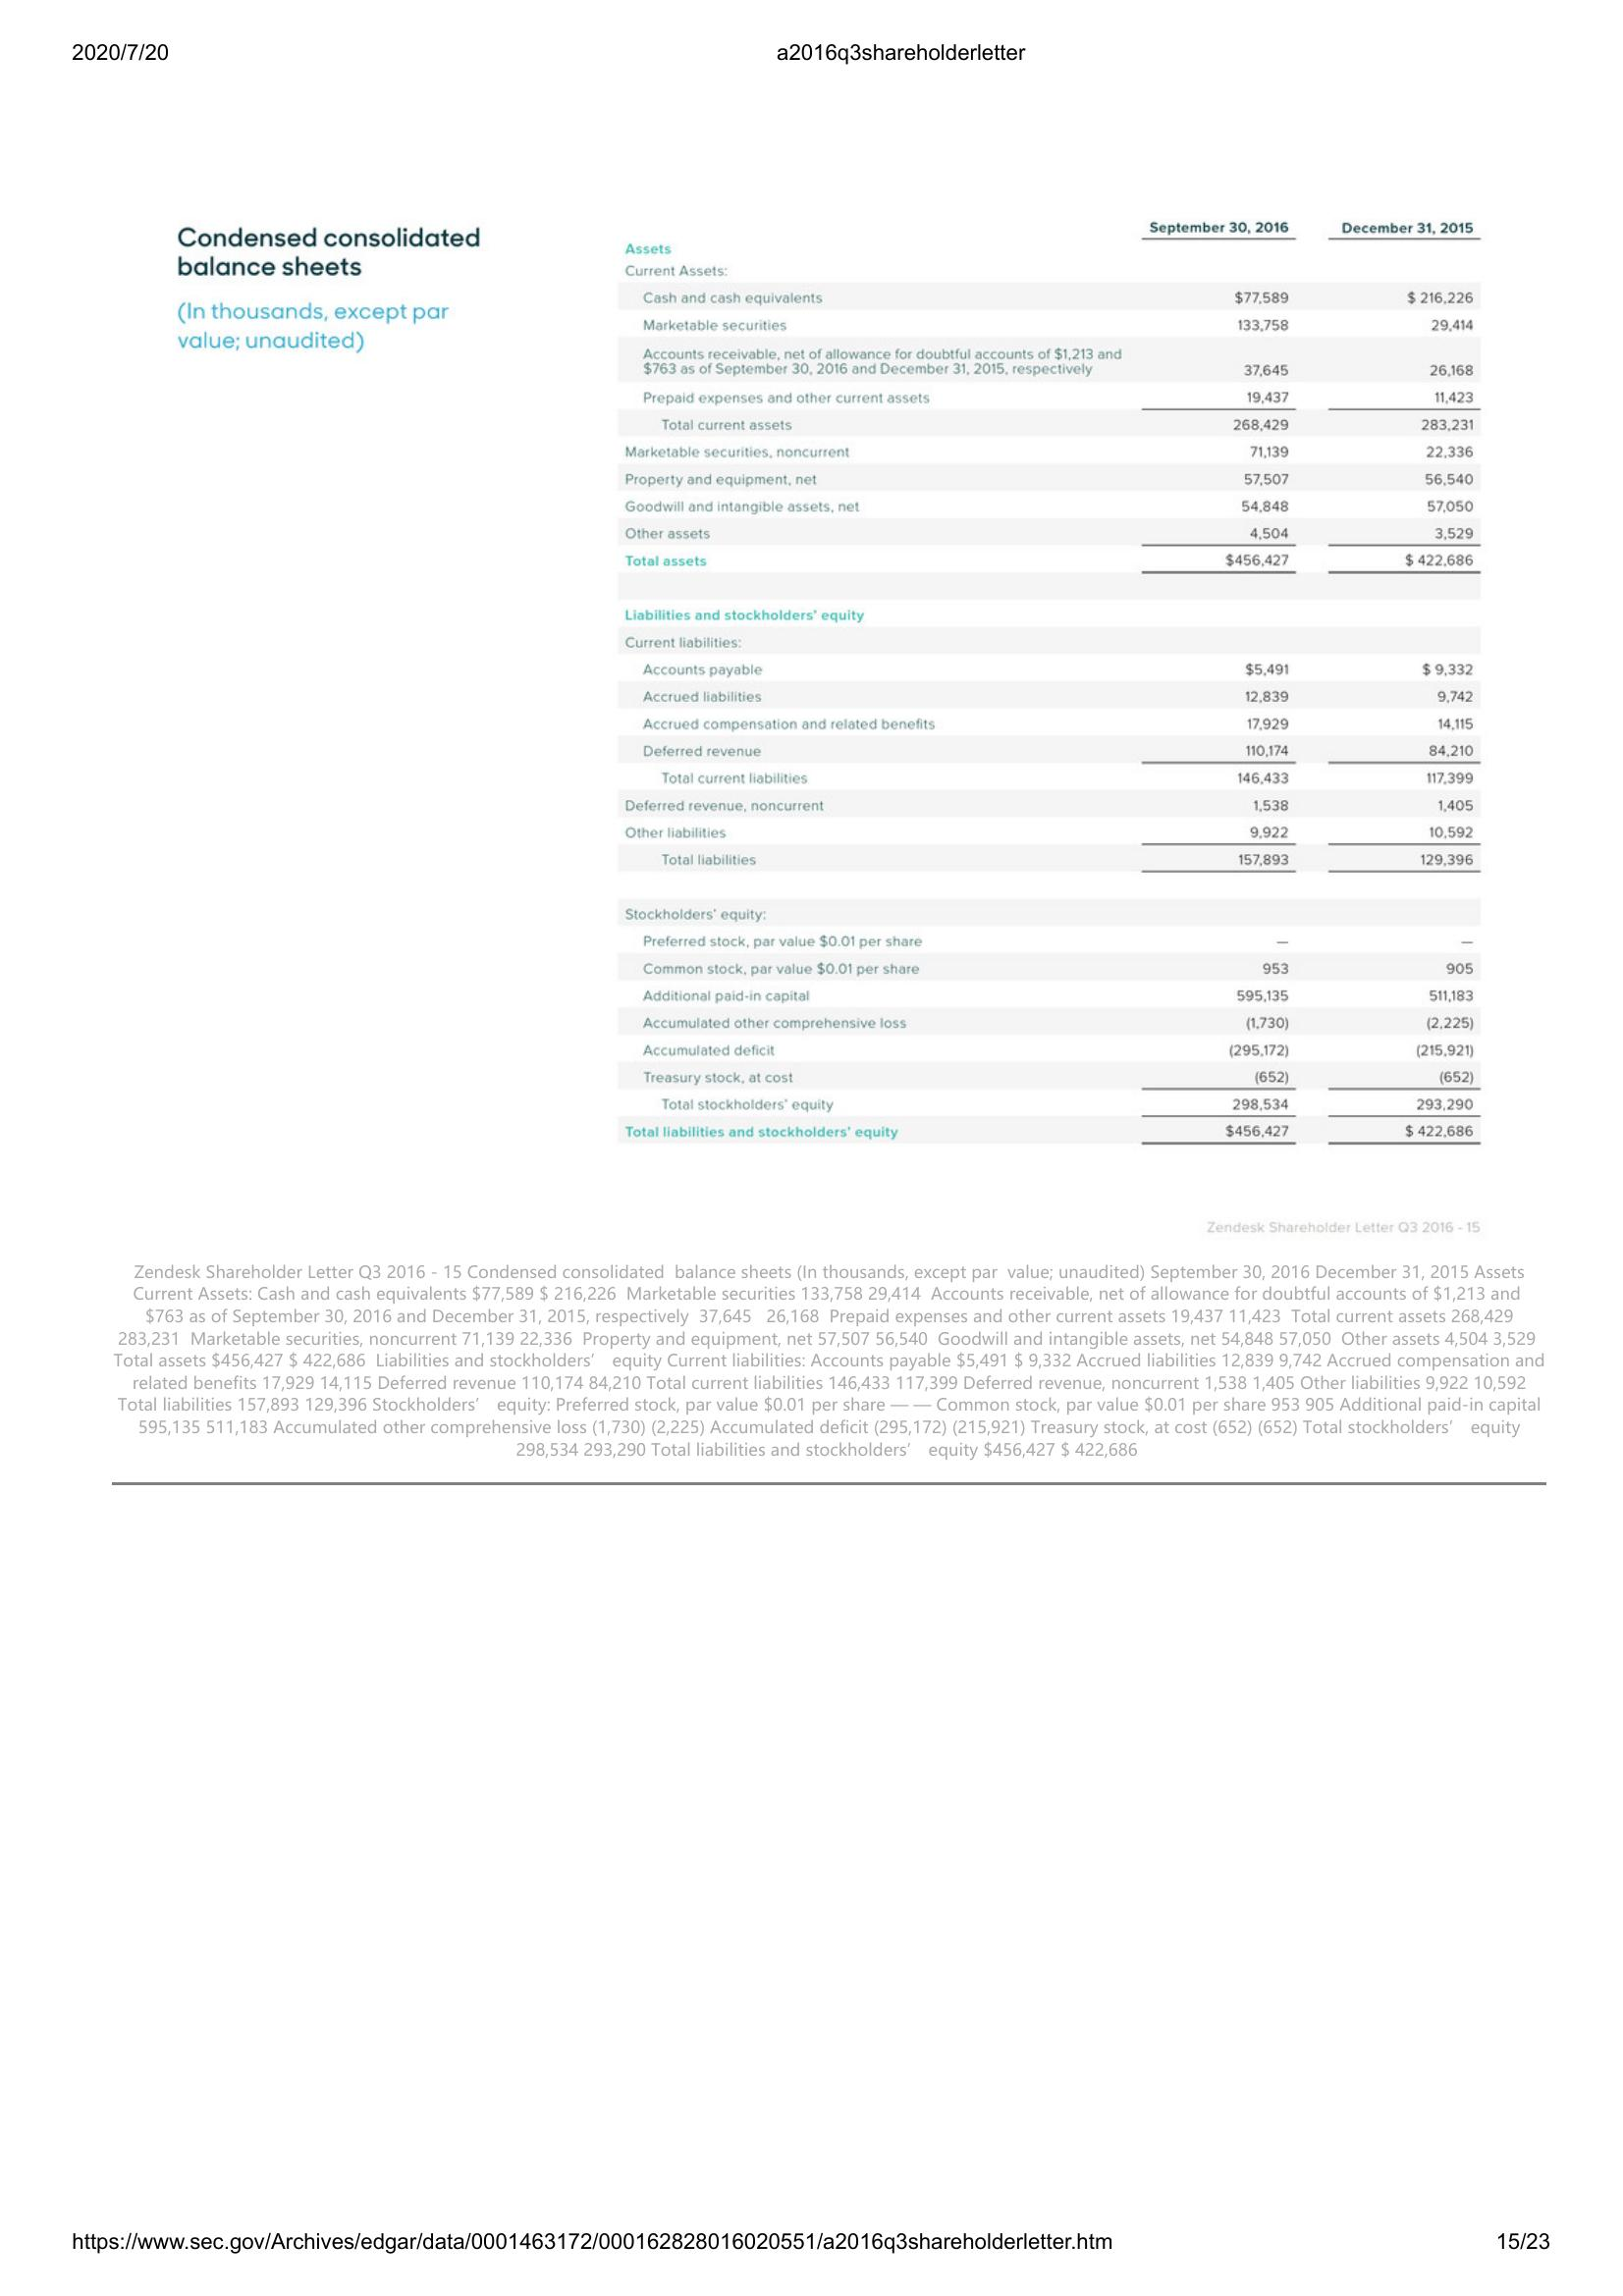table: (613, 212, 1493, 1150)
